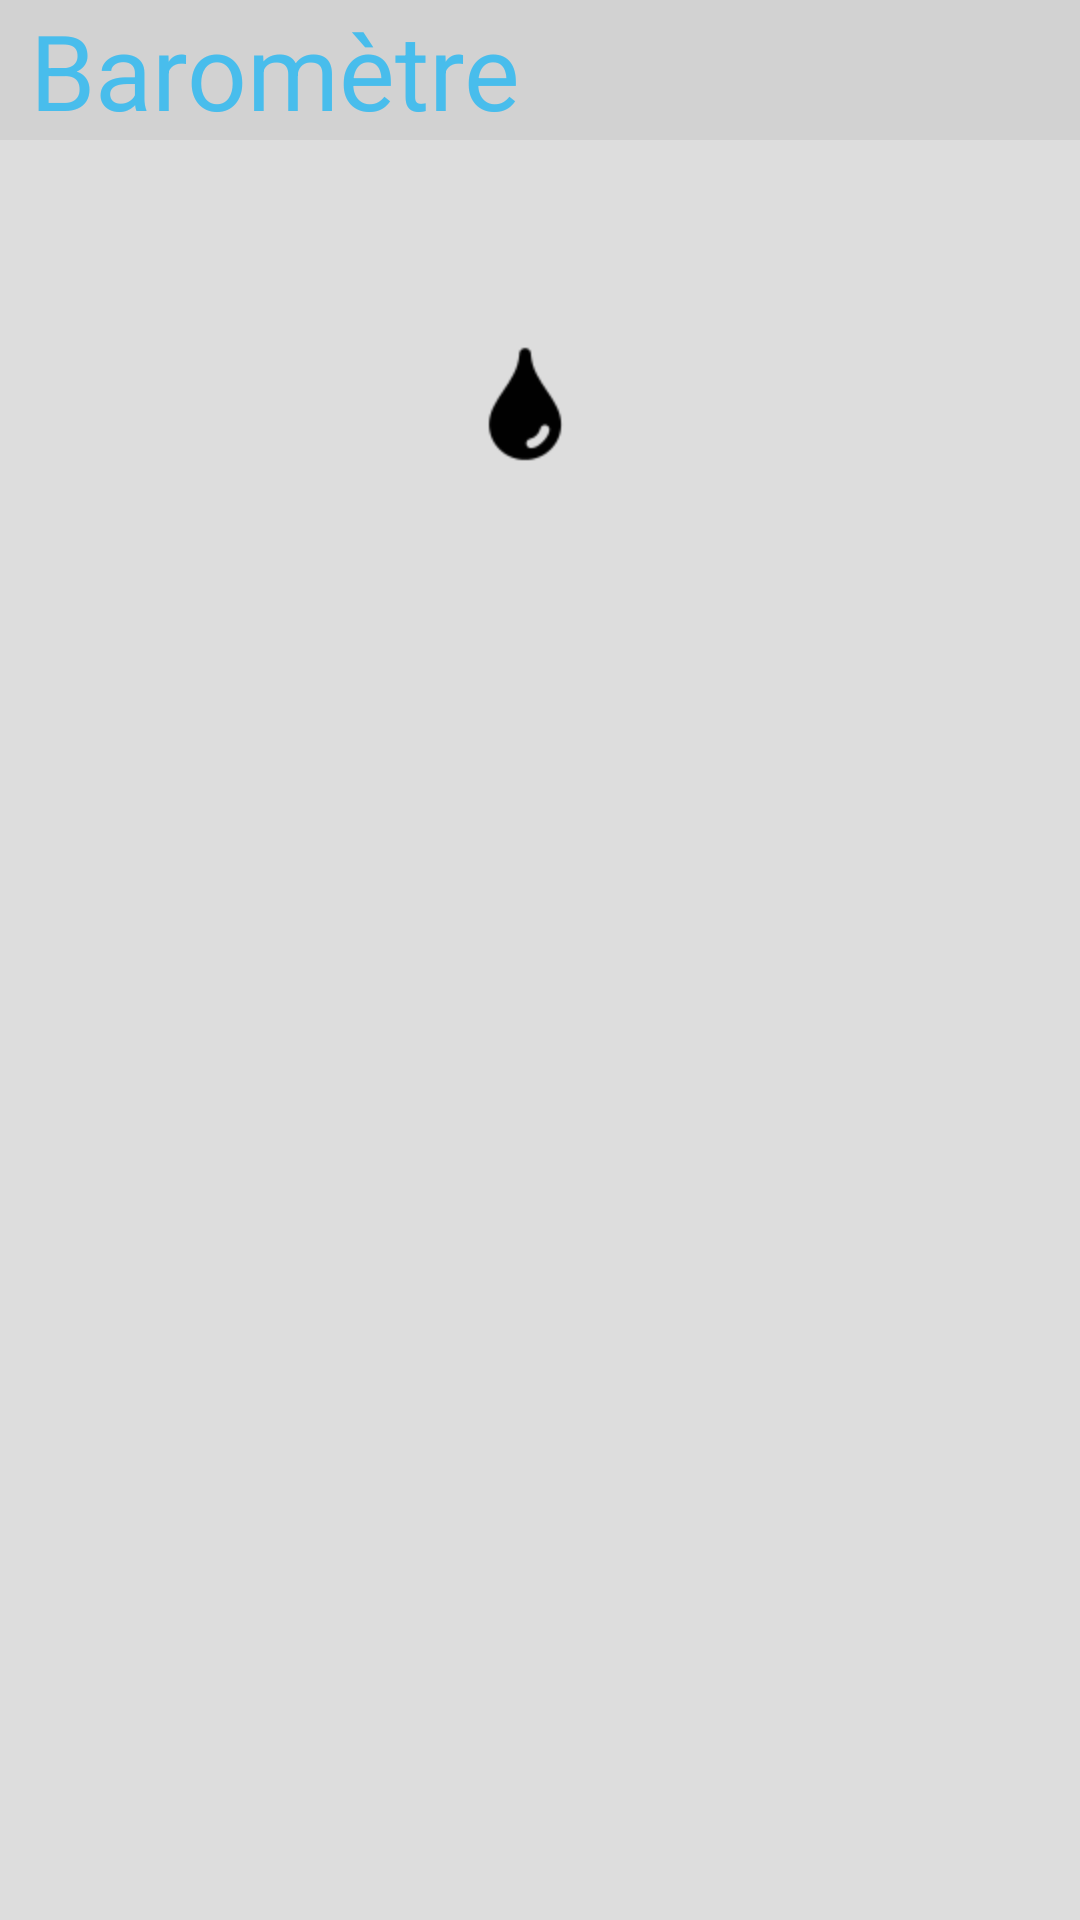

Locate icon controls on the screen. Image size 1080 × 1920, boxes as Rect(x1, y1, x2, y2).
goutte: Rect(488, 347, 562, 461)
